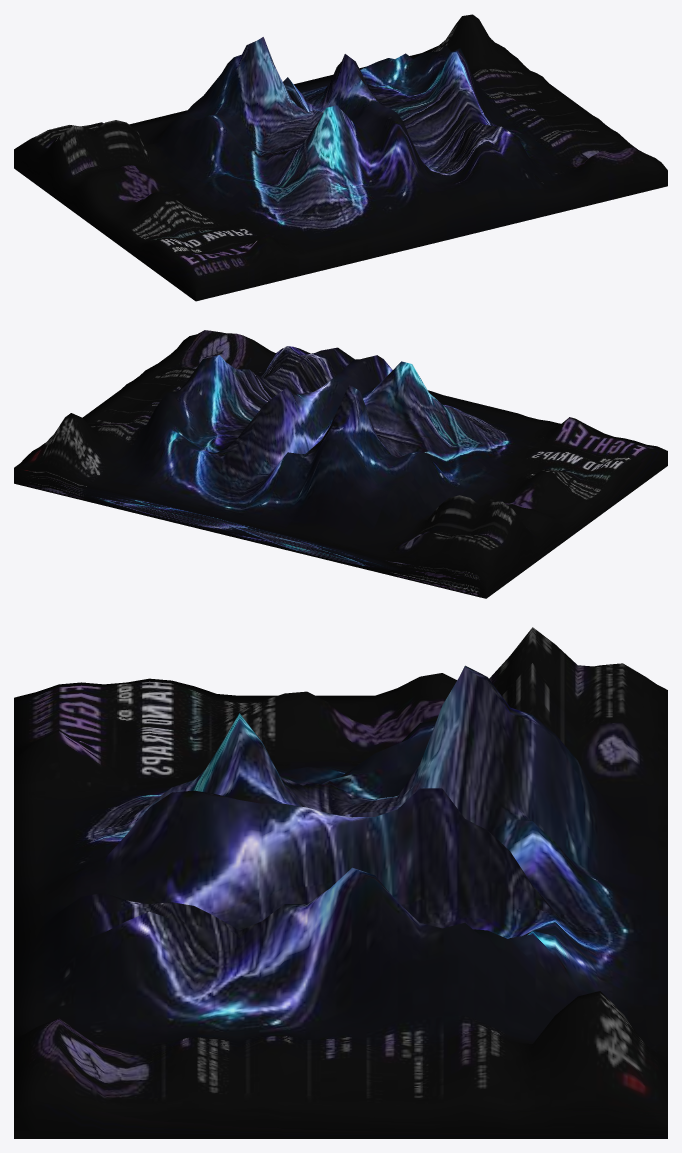
File: CAREER_06_Tool_03_Wraps.glb
3 views of the same model, one above another, from view 1: azimuth 30°, elevation 25°; view 2: azimuth 150°, elevation 25°; view 3: azimuth 270°, elevation 25° (orthographic). The views are drawn at different scales.
Visible parts, largest first — view 1: CAREER_06_Tool_03_Wraps; view 2: CAREER_06_Tool_03_Wraps; view 3: CAREER_06_Tool_03_Wraps.
Part boxes in pixels (x1,y1,x2,y2): CAREER_06_Tool_03_Wraps: (14,14,667,301); CAREER_06_Tool_03_Wraps: (14,330,667,598); CAREER_06_Tool_03_Wraps: (14,627,667,1138).
Size of the model in its own units: 2 by 0.51 by 1.33.
1 material, 1 textured.
